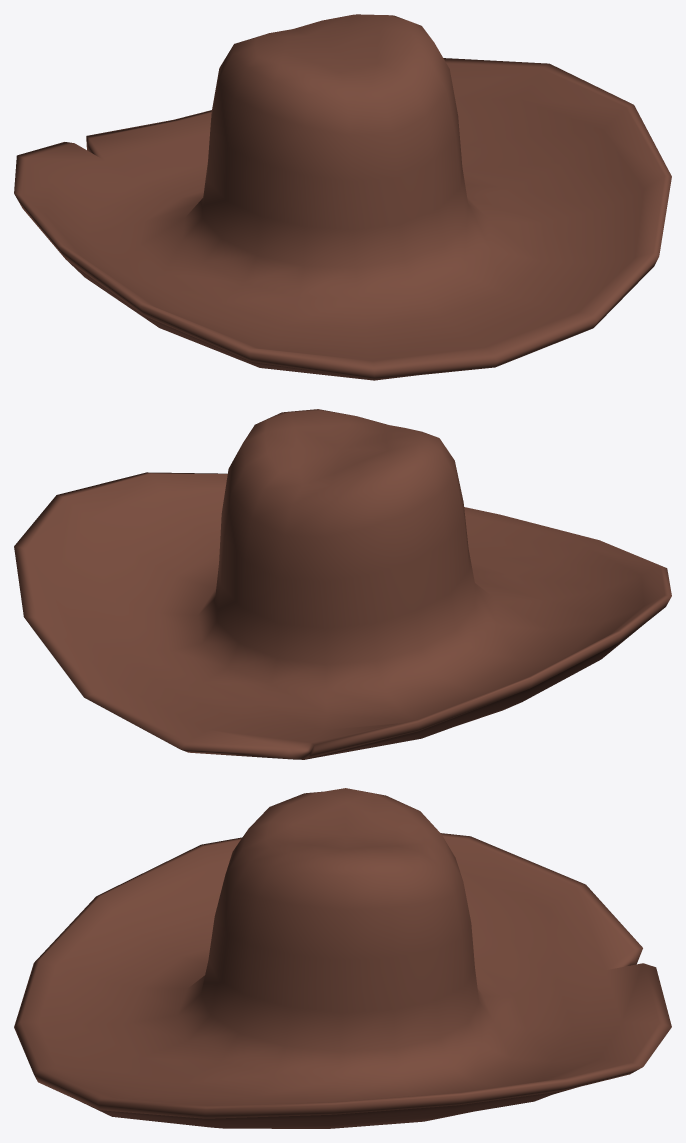
File: hat.glb
3 renders of one model, top to bottom at view 1: azimuth 30°, elevation 25°; view 2: azimuth 150°, elevation 25°; view 3: azimuth 270°, elevation 25°, orthographic. The views are drawn at different scales.
Visible parts, largest first — view 1: bake.005; view 2: bake.005; view 3: bake.005.
Boxes of the visible parts, x1=… form: bake.005: x1=14, y1=14, x2=671, y2=380; bake.005: x1=14, y1=409, x2=671, y2=759; bake.005: x1=14, y1=788, x2=671, y2=1128.
Bounding box in the file's own units: 1.66 × 0.6128 × 1.63.
